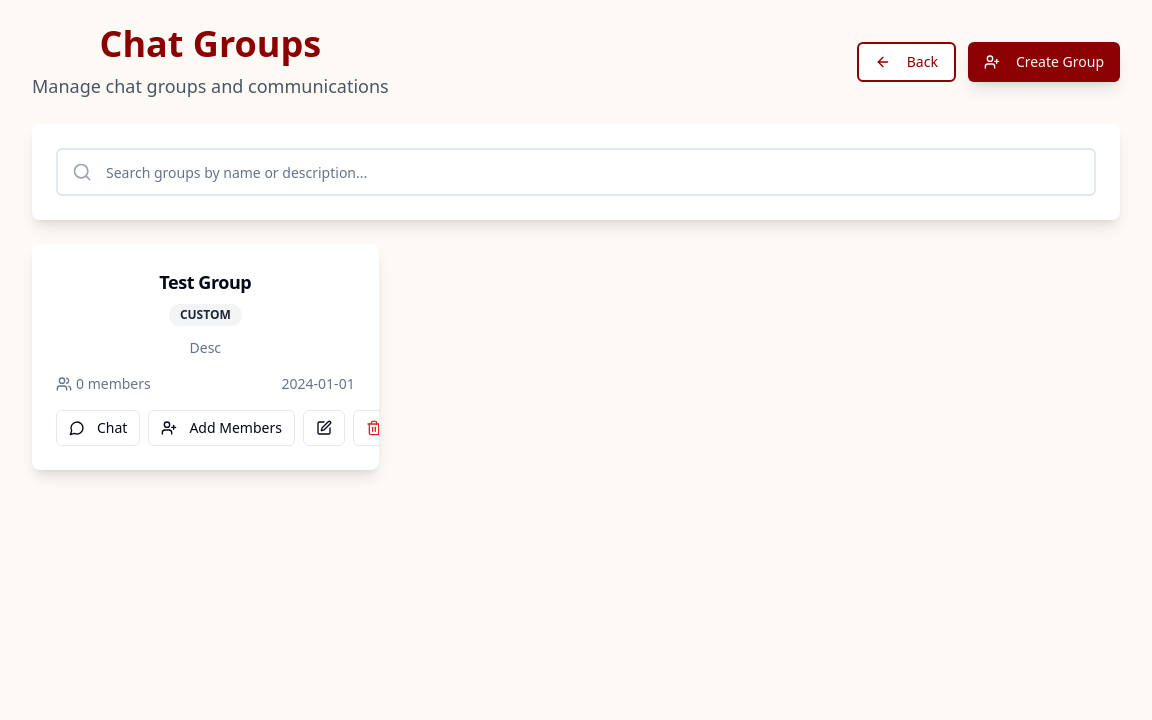
GroupManagement › opens AddGroupMembersModal when Add Members is clicked
This screenshot has width=1152, height=720.
Expected: the heading "Test Group" is shown, [159,270,251,294]
Click the button "Add Members". click: (222, 428)
box: [148,410,295,446]
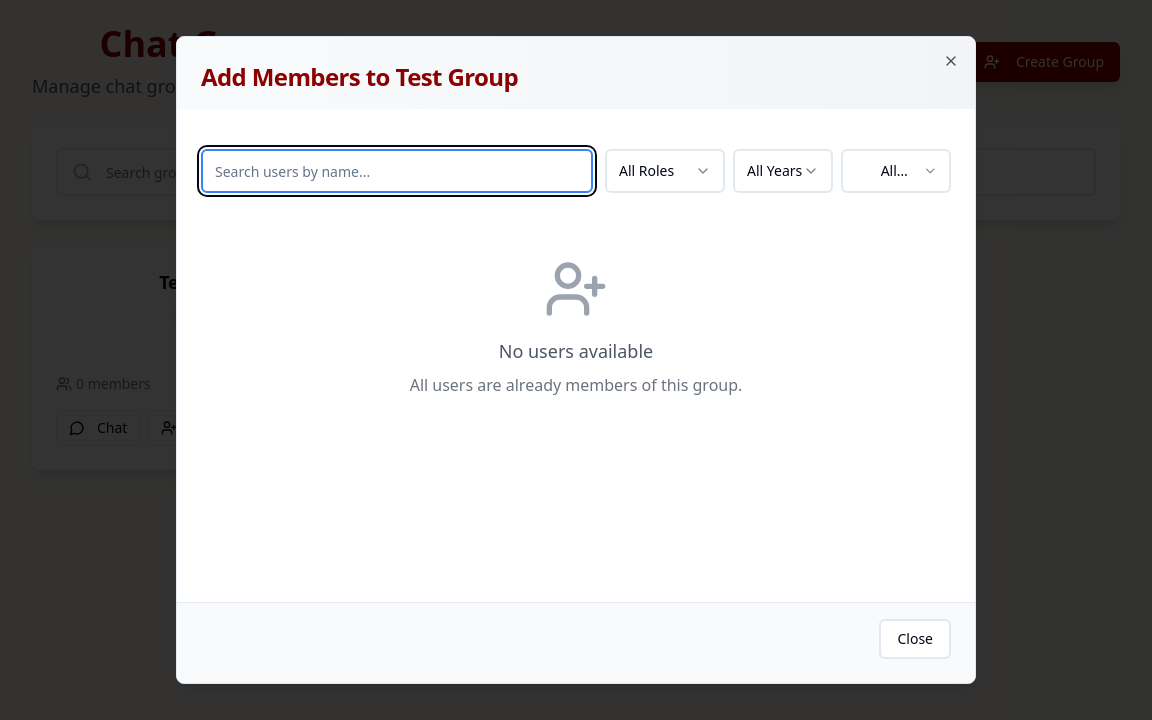
Result: the heading "Add Members to Test Group" is shown at [201,60,518,93]
